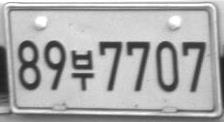0: (154, 40, 179, 93)
7: (125, 40, 151, 92), (181, 40, 206, 93), (98, 40, 123, 91)
8: (16, 39, 42, 91)
9: (43, 39, 67, 91)
부: (70, 49, 94, 92)
